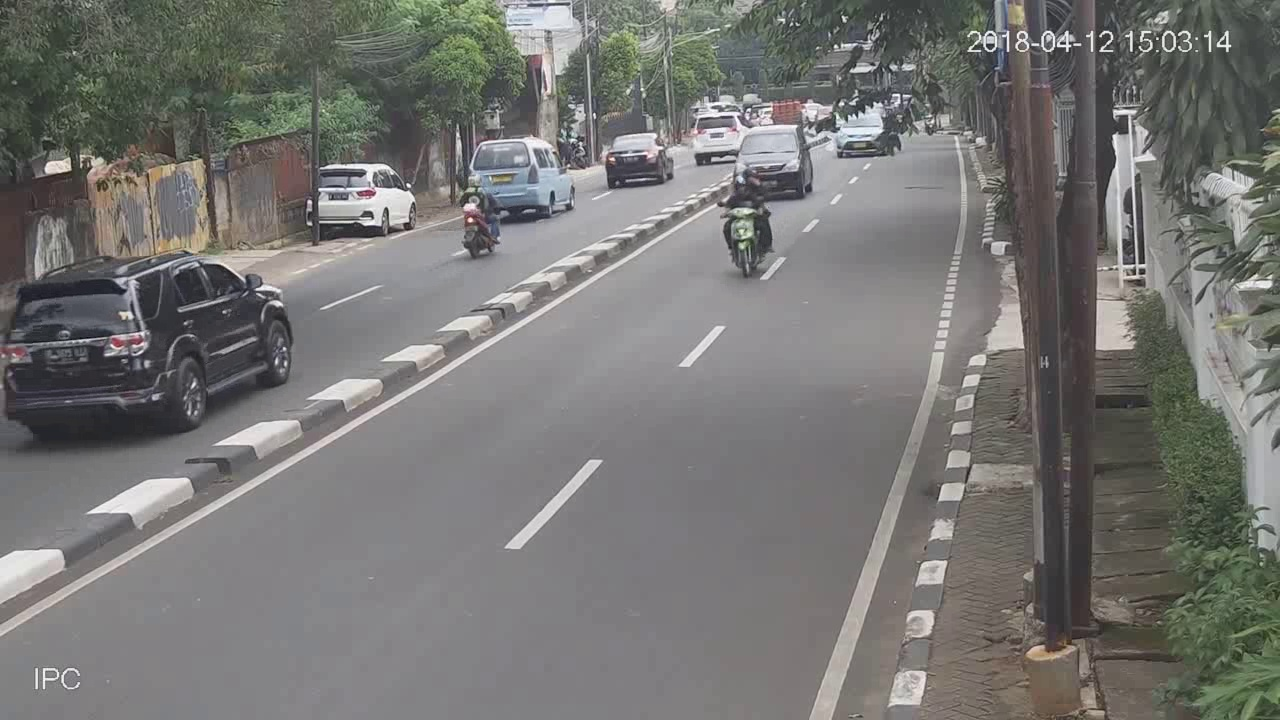car: (1, 249, 294, 440), (304, 163, 421, 238), (478, 134, 578, 220), (606, 131, 674, 186)
motorcycle: (716, 175, 778, 279), (458, 171, 507, 258)
